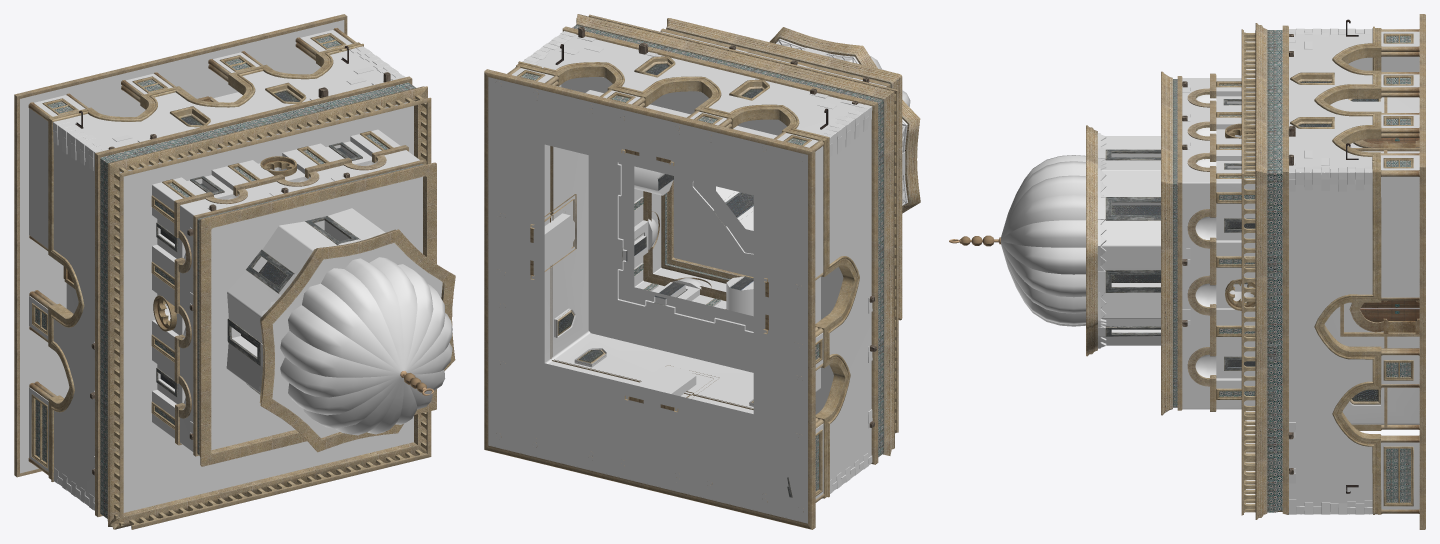
File: hd_bld_AF_08_Mosque.glb
3 renders of one model, left to right at view 1: azimuth 30°, elevation 25°; view 2: azimuth 150°, elevation 25°; view 3: azimuth 270°, elevation 25°, orthographic. The views are drawn at different scales.
Visible parts, largest first — view 1: set_0_group_1, set_0_group_3, set_0_group_4, set_0_group_2, set_0_group_0; view 2: set_0_group_1, set_0_group_4, set_0_group_3, set_0_group_2; view 3: set_0_group_4, set_0_group_2, set_0_group_3, set_0_group_0.
Part boxes in pixels (x1,y1,x2,y2): set_0_group_1: (20,20,442,512); set_0_group_3: (14,14,455,529); set_0_group_4: (29,30,419,510); set_0_group_2: (28,28,433,526); set_0_group_0: (280,257,452,435); set_0_group_1: (488,77,843,523); set_0_group_4: (512,31,907,498); set_0_group_3: (484,14,920,529); set_0_group_2: (496,17,896,511); set_0_group_4: (1098,28,1419,514); set_0_group_2: (949,19,1419,514); set_0_group_3: (1086,14,1425,529); set_0_group_0: (1001,155,1085,326).
Size of the model in its own units: 19.1 by 21.21 by 24.59.
Materials: 5 (2 with a texture image).
